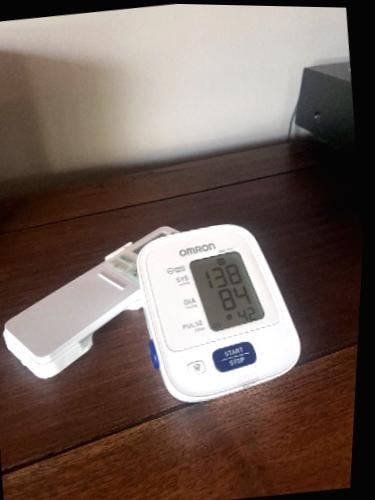bpm: (187, 242, 266, 336)
